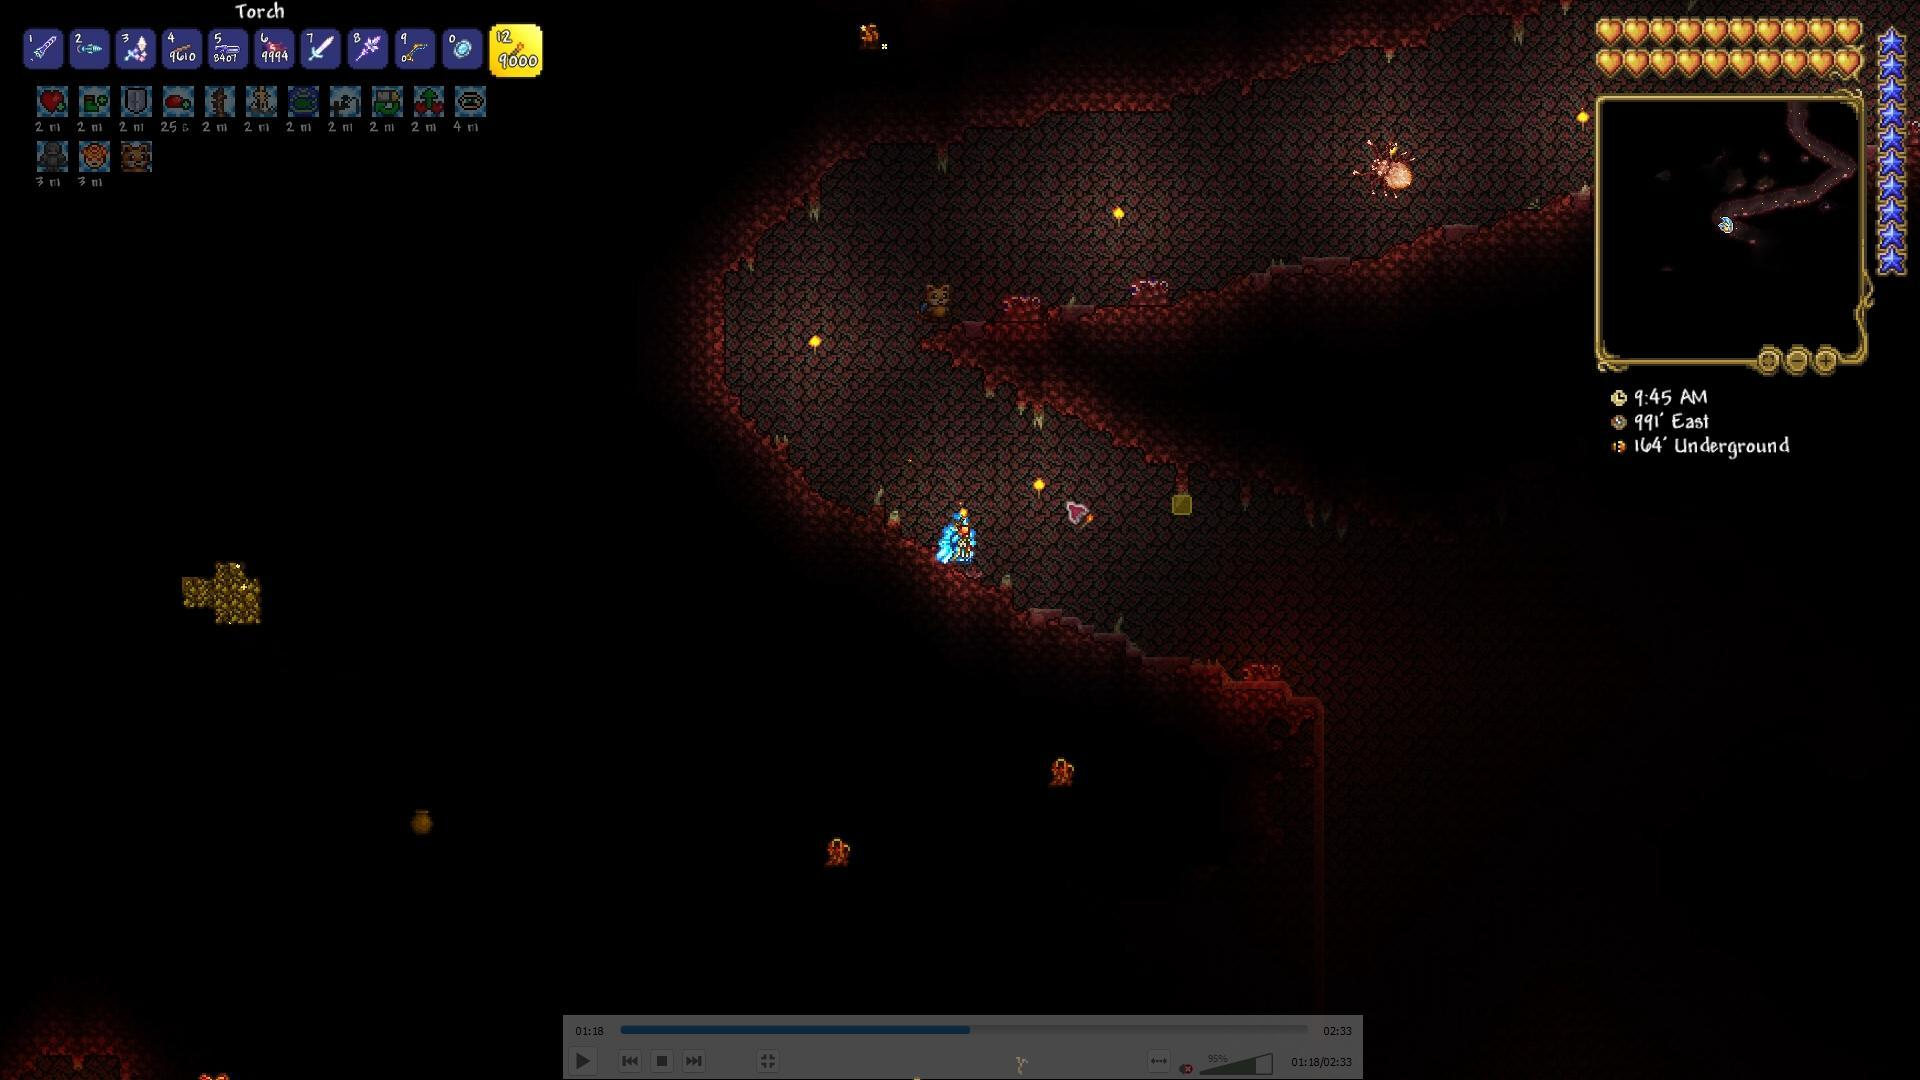spider: (1344, 128, 1418, 203)
